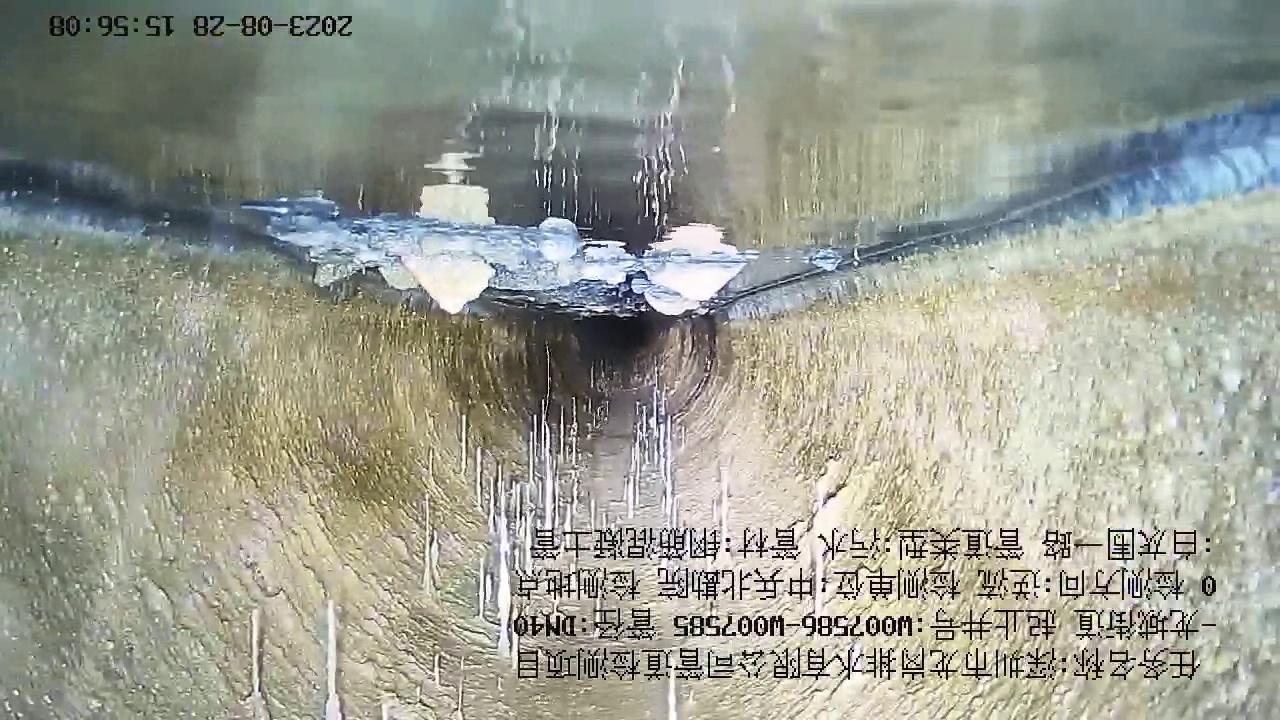CJ: (242, 198, 756, 316)
JG: (1, 192, 1280, 720)
